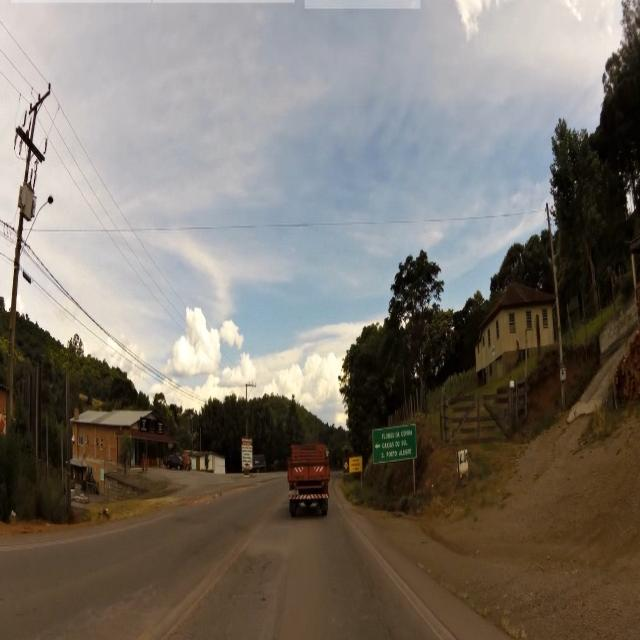I-4: (372, 425, 421, 463)
